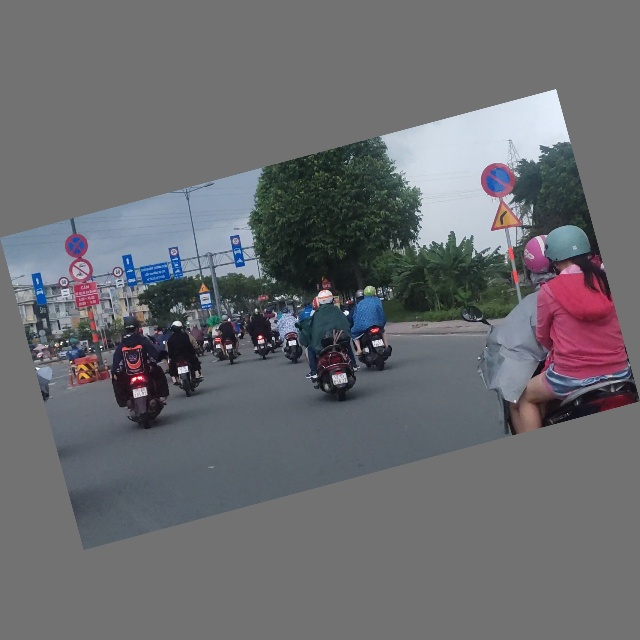I.434a: (198, 293, 214, 311)
P.111: (67, 257, 95, 286)
P.127*50: (231, 236, 241, 247), (169, 248, 179, 258)
P.127*60: (111, 266, 125, 280)
P.127*80: (58, 276, 70, 289)
P.130: (62, 232, 90, 262)
P.131a: (475, 159, 518, 203)
S.505a*Xe tai va cong: (114, 278, 126, 290)
W.201b: (483, 194, 525, 235), (196, 282, 210, 296)
